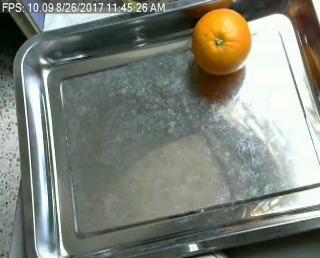Orange: (190, 8, 252, 75)
